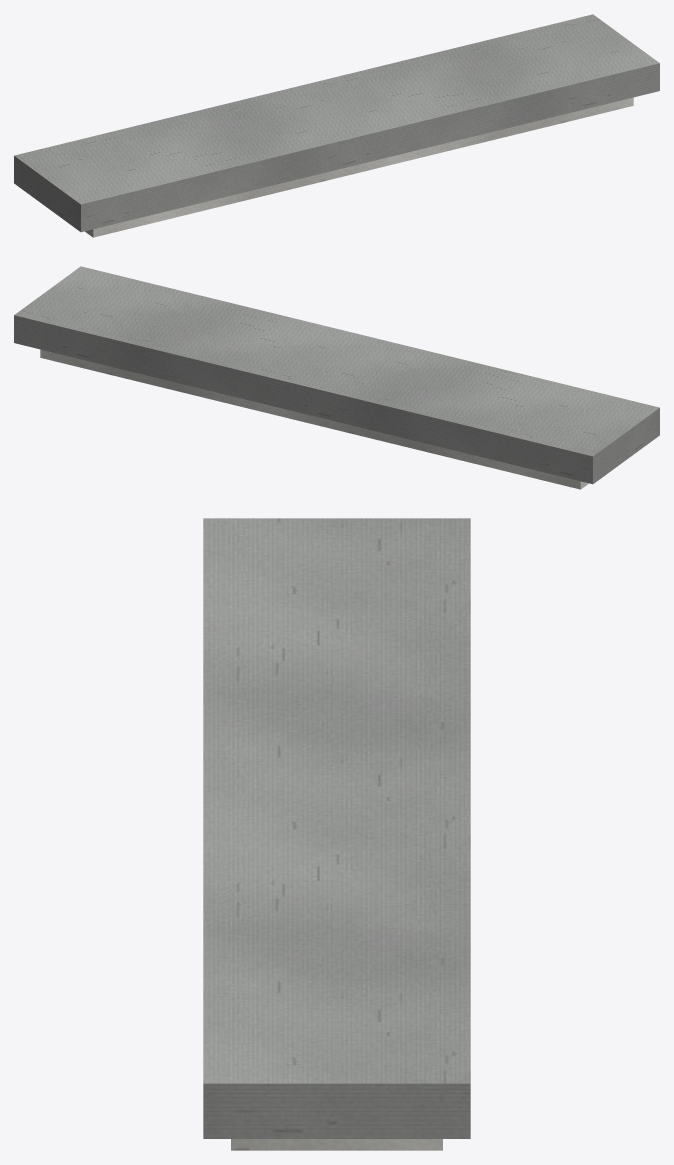
The model's file is fluoro.glb.
The picture shows the model from 3 angles, top to bottom: view 1: azimuth 30°, elevation 25°; view 2: azimuth 150°, elevation 25°; view 3: azimuth 270°, elevation 25°; orthographic projection. The views are drawn at different scales.
Visible parts, largest first — view 1: NC_fluoro; view 2: NC_fluoro; view 3: NC_fluoro.
Part boxes in pixels (x1=…): NC_fluoro: x1=14, y1=14, x2=659, y2=237; NC_fluoro: x1=14, y1=266, x2=659, y2=489; NC_fluoro: x1=203, y1=518, x2=470, y2=1150.
Bounding box in the file's own units: 1.2 × 0.085 × 0.24.
2 materials, 2 textured.
